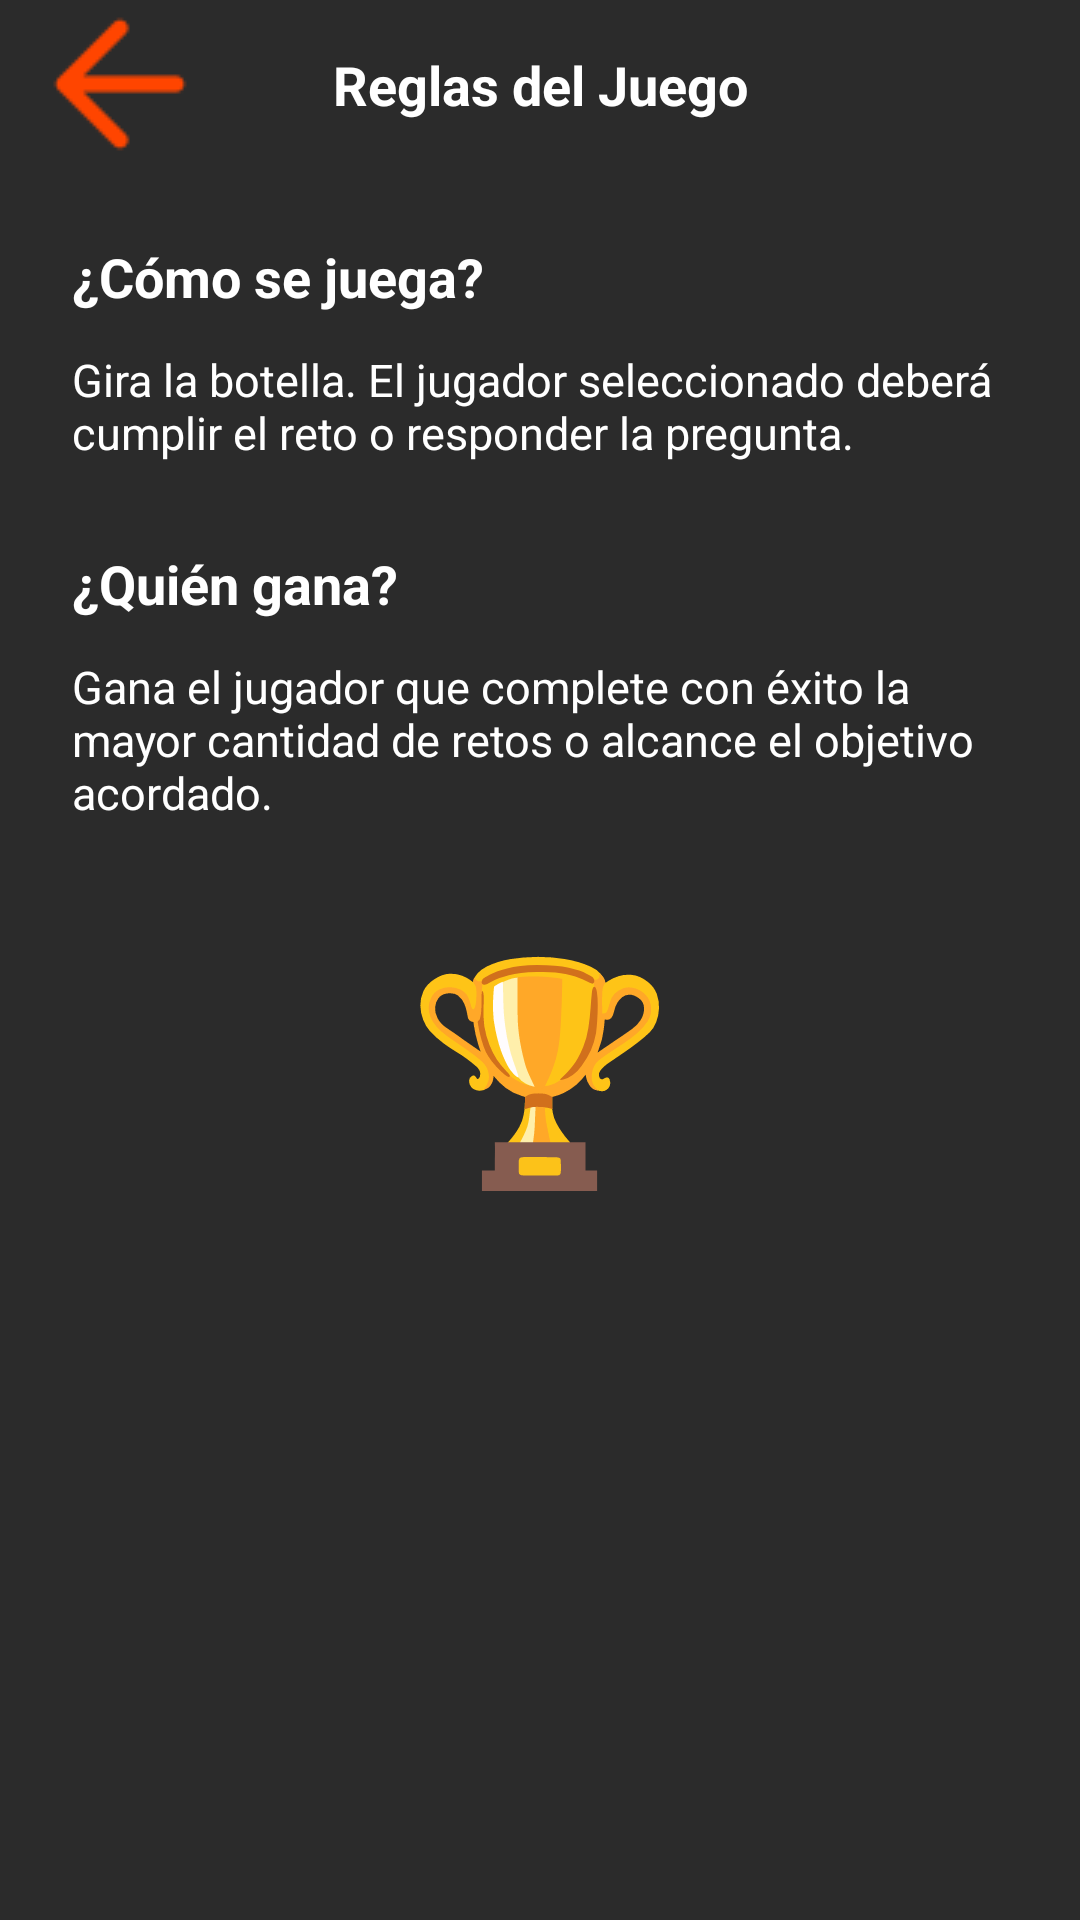

Where to tap for icons on this 1080px x 1920px app screen, as (x=x, y=y):
Volver: (x=120, y=84)
